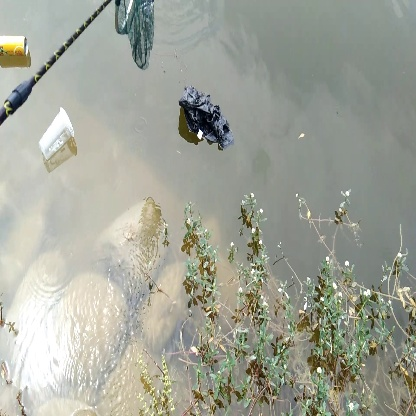bottle: (34, 105, 78, 165)
plastic-bag: (174, 85, 238, 154)
